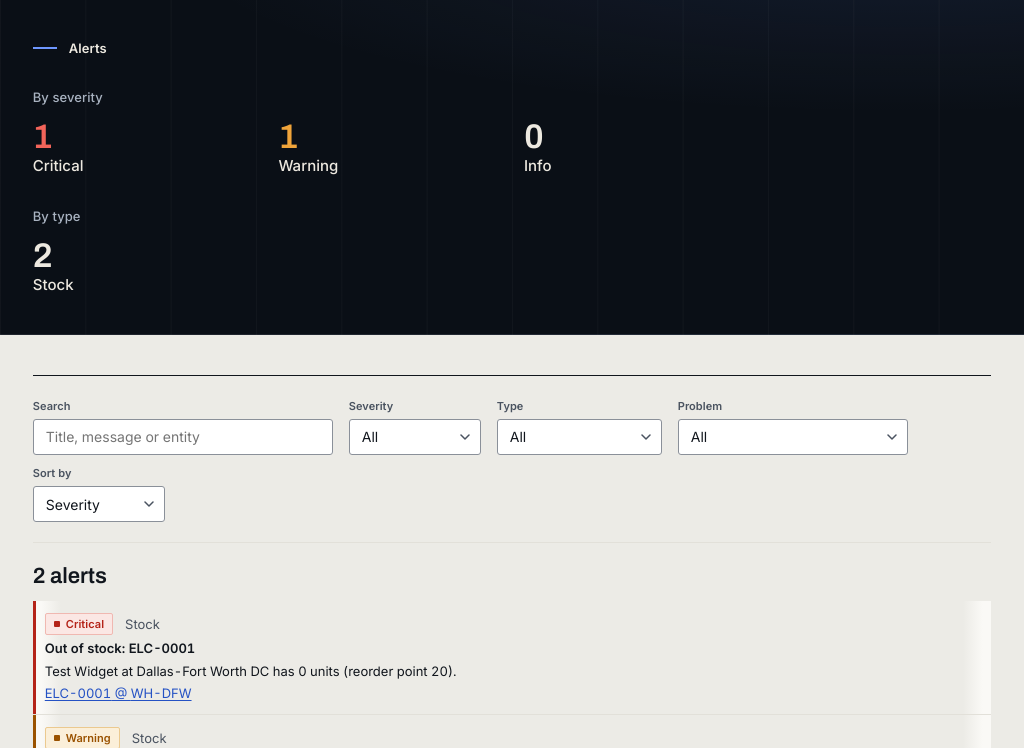
Scenario: AlertsPage: the Dashboard kinds (kind=) › ignores an unknown kind, and the Problem filter writes kind= to the hash
Expected: the text "2 alerts" is shown, [33,564,107,588]
Select "Out of stock" in the dropdown labelled "Problem" at (793, 437), box [678,419,908,455]
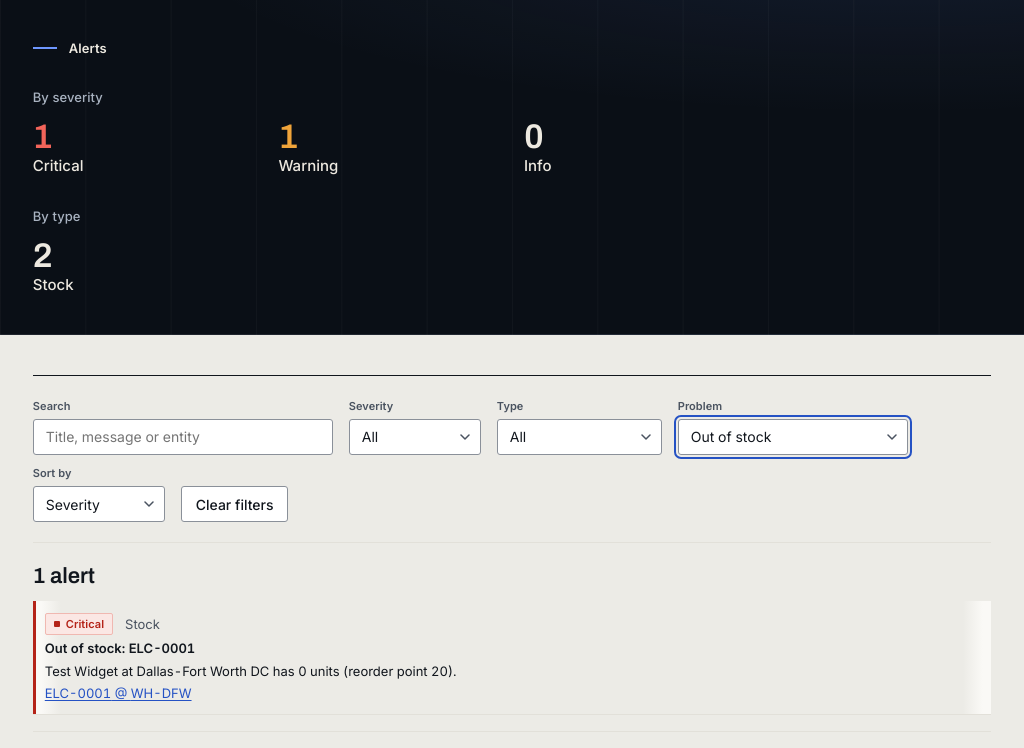
Now the text "1 alert" is shown, box [33,564,95,588]
